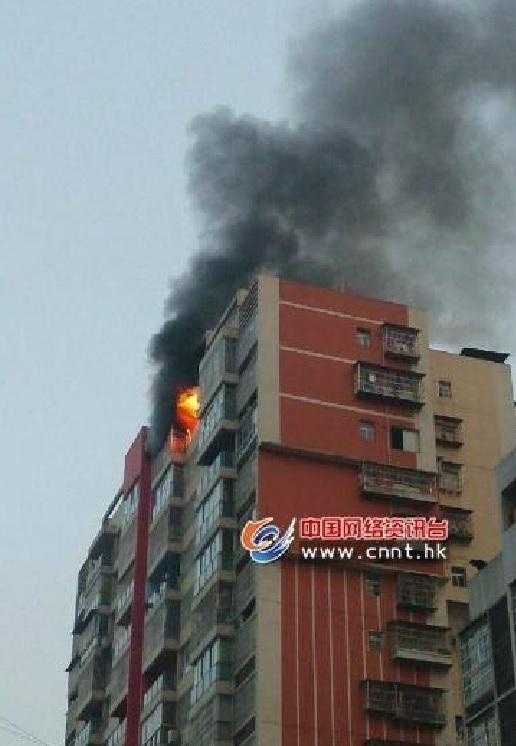fire: (171, 383, 202, 437)
